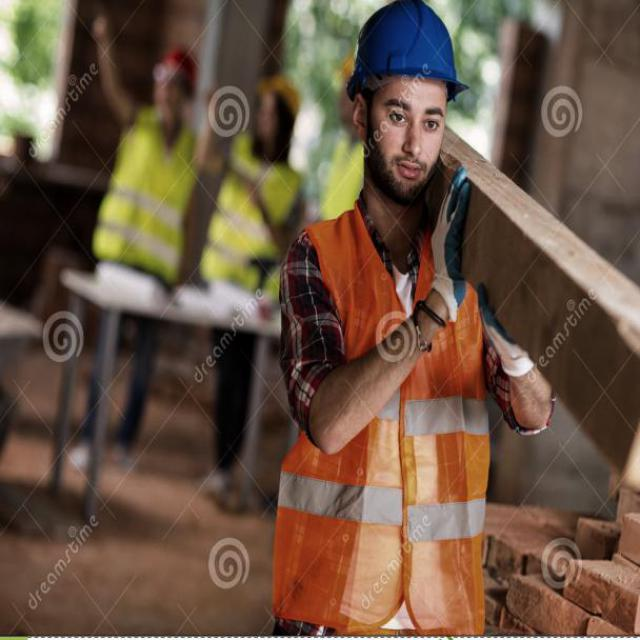gloves: (425, 174, 475, 312)
helmet: (333, 0, 460, 180)
vest: (304, 213, 502, 640)
